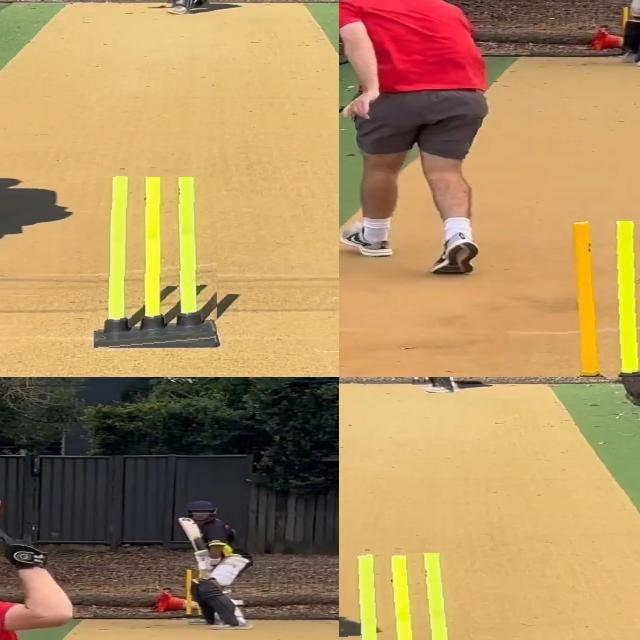Stumps: (94, 177, 219, 349), (553, 220, 640, 377), (339, 553, 470, 640)
